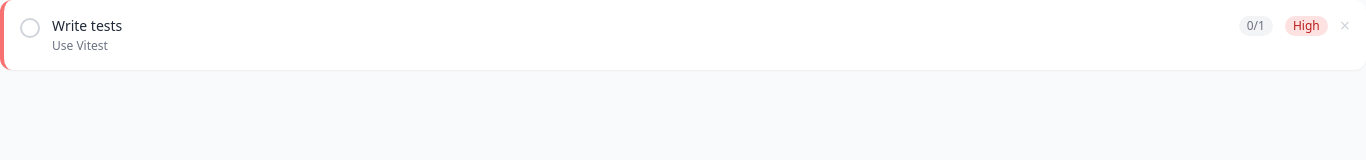
Scenario: TaskItem — child description › shows child description in the expanded list
Click the button with test id "children-count": (1256, 26) [1239, 16, 1273, 36]
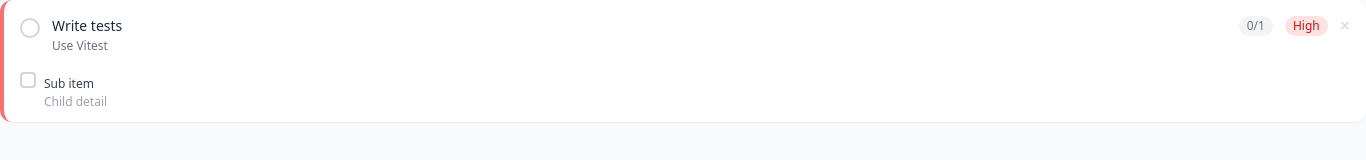
Check: the text with test id "child-description-c1" reads "Child detail", box [44, 93, 107, 110]
